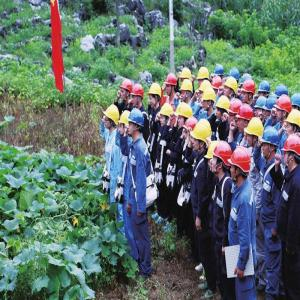blue: (262, 127, 280, 162), (129, 109, 146, 139), (254, 95, 267, 119), (264, 100, 277, 122)
red: (212, 143, 234, 176), (230, 147, 251, 180), (283, 137, 300, 169), (237, 105, 254, 133), (276, 96, 293, 123), (241, 80, 256, 107), (132, 86, 146, 109), (229, 101, 242, 124), (165, 74, 178, 97), (120, 80, 133, 102), (185, 118, 198, 140)
yellow: (246, 117, 264, 148), (193, 122, 210, 154), (104, 103, 120, 132), (179, 78, 195, 104), (286, 110, 300, 139), (202, 89, 217, 114), (177, 103, 191, 128), (216, 97, 231, 120), (149, 83, 162, 109), (223, 77, 238, 99), (160, 103, 173, 127), (119, 111, 130, 136), (197, 66, 210, 87)
